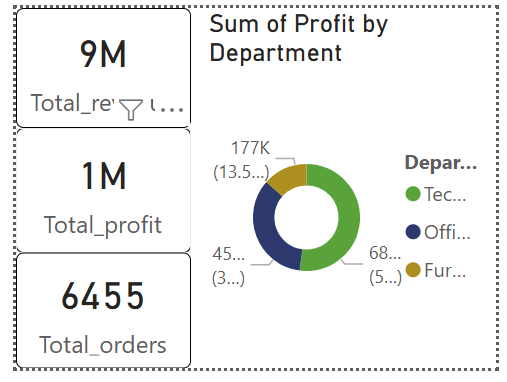

Layout of this report page (visuals, bound fields, positions):
{"tool":"powerbi","page":{"name":"Tooltip 1","canvas":[320,240],"ordinal":12},"visuals":[{"type":"card","fields":{"Values":["Superstore.Total_revenue"]},"box":[0,0,117,80],"z":0},{"type":"card","fields":{"Values":["Superstore.Total_profit"]},"box":[0,80,117,83],"z":1000},{"type":"card","fields":{"Values":["Superstore.Total_orders"]},"box":[0,163,117,77],"z":2000},{"type":"donutChart","fields":{"Category":["Superstore.Department"],"Y":["Sum(Superstore.Profit)"]},"box":[124,0,196,240],"z":3000}]}

Visuals, with their boxes in screenshot pixels (x1, y1, x2, y2), scaled from the page's 320x240 canvas onto the 507x382 screenshot:
card - Superstore.Total_revenue: (left=0, top=0, right=185, bottom=127)
card - Superstore.Total_profit: (left=0, top=127, right=185, bottom=259)
card - Superstore.Total_orders: (left=0, top=259, right=185, bottom=381)
donutChart - Superstore.Department x Sum(Superstore.Profit): (left=196, top=0, right=506, bottom=381)
